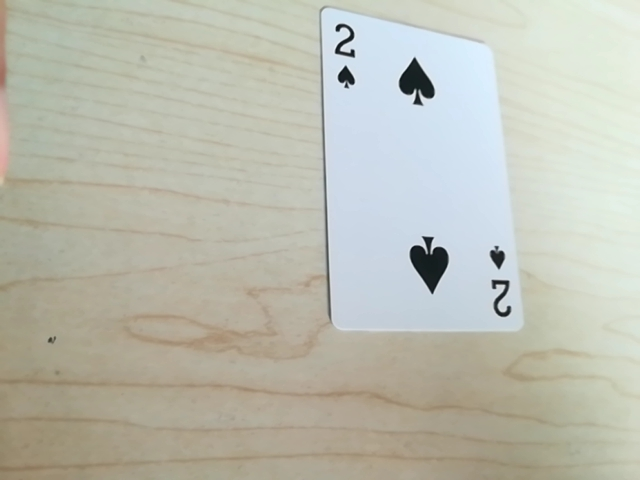ht 2: (322, 9, 368, 101), (481, 239, 516, 325)
